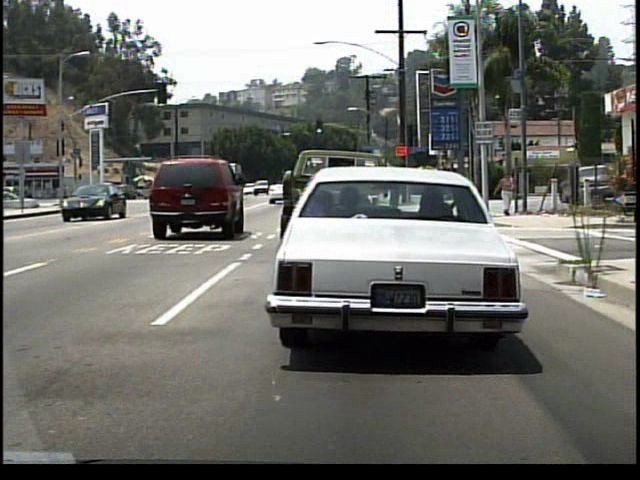person: (501, 169, 518, 219)
